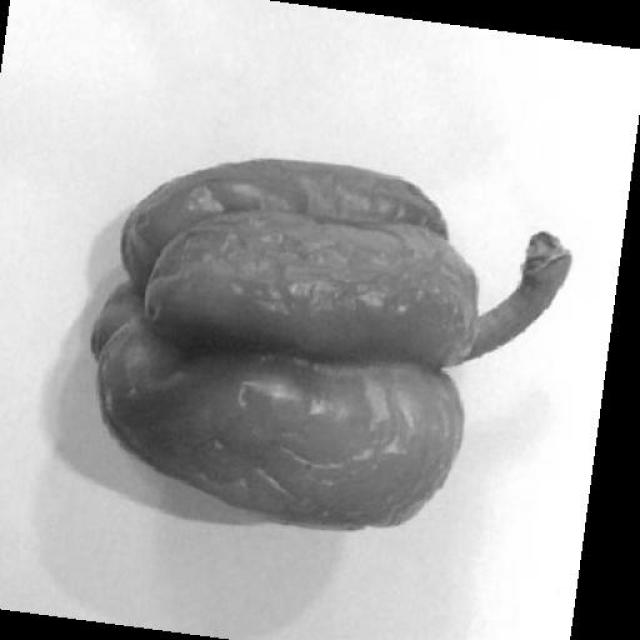Stale_Capsicum: (71, 86, 554, 574)
